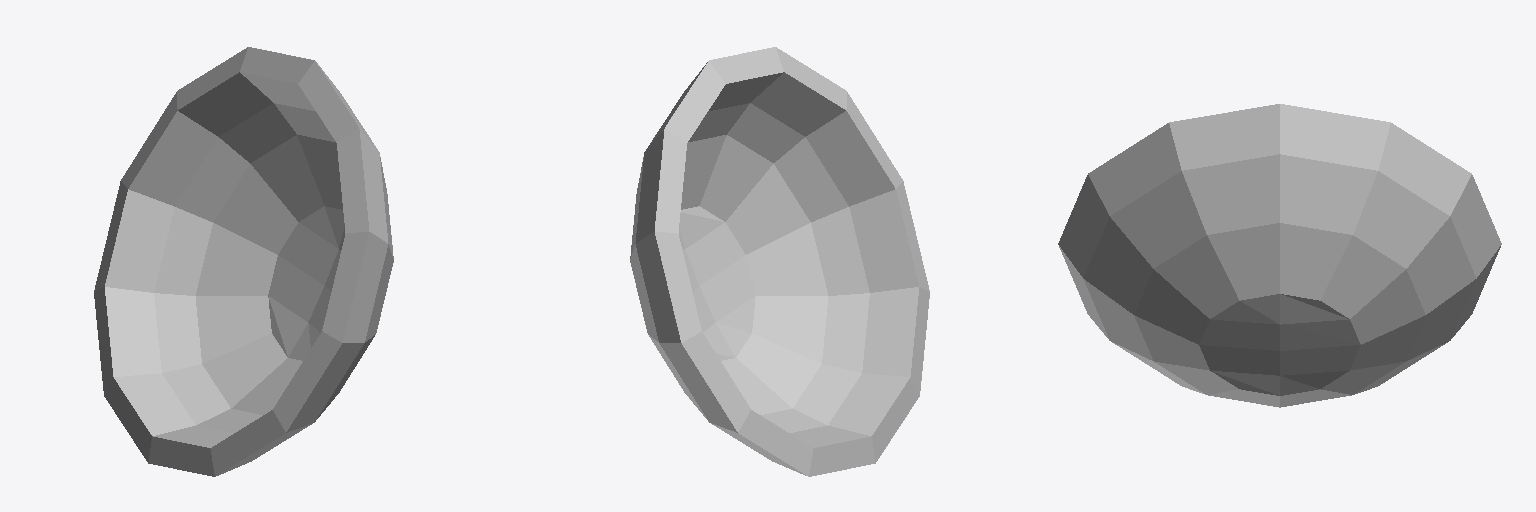
The model's file is parabolica_chica.obj.
3 views of the same model, side by side, from view 1: azimuth 30°, elevation 25°; view 2: azimuth 150°, elevation 25°; view 3: azimuth 270°, elevation 25° (orthographic).
Visible parts, largest first — view 1: parab_sur_Cylinder.002; view 2: parab_sur_Cylinder.002; view 3: parab_sur_Cylinder.002.
Boxes of the visible parts, x1=… form: parab_sur_Cylinder.002: x1=94, y1=47, x2=393, y2=476; parab_sur_Cylinder.002: x1=630, y1=47, x2=929, y2=476; parab_sur_Cylinder.002: x1=1058, y1=104, x2=1501, y2=407.
Bounding box in the file's own units: 1.04 × 1.67 × 1.86.